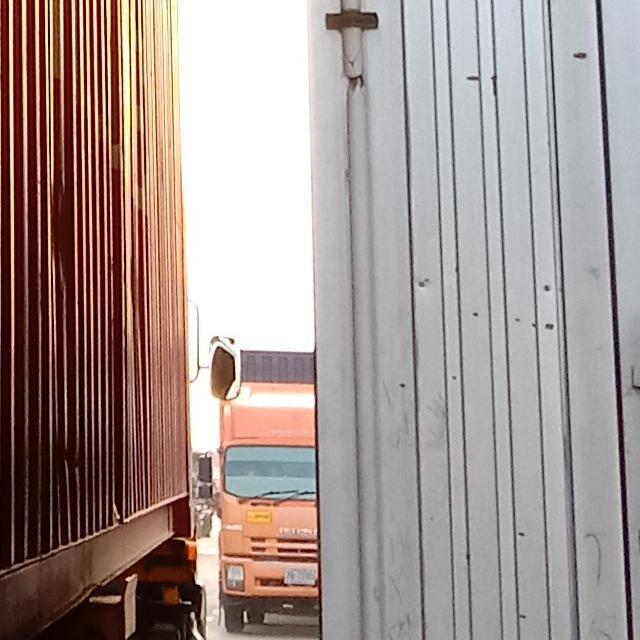dent: (110, 174, 129, 525), (46, 176, 81, 301), (50, 437, 86, 487)
